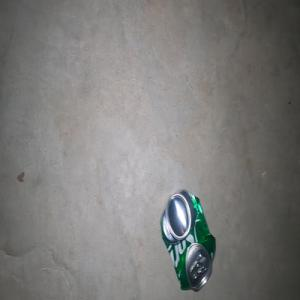SodaCan: (160, 188, 215, 291)
